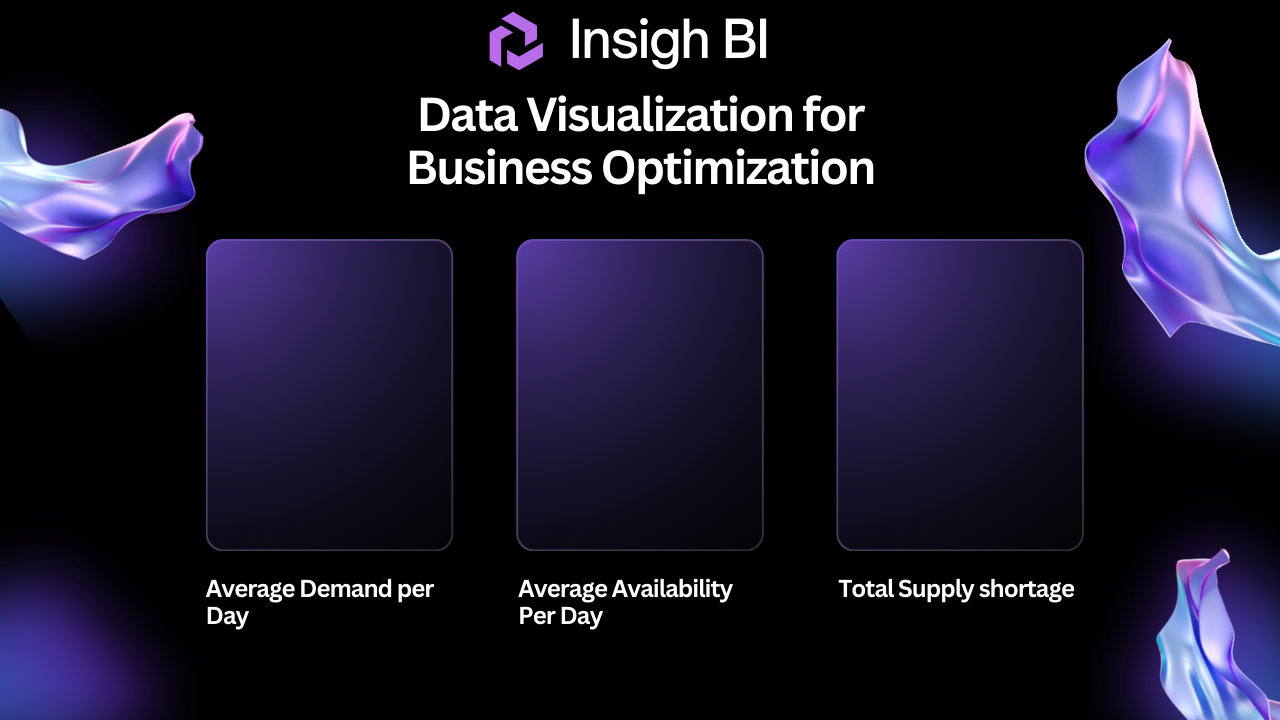

Layout of this report page (visuals, bound fields, positions):
{"tool":"powerbi","page":{"name":"Page 1","canvas":[1280,720],"ordinal":0},"visuals":[{"type":"cardVisual","fields":{"Data":["Measures Table.Average Demand Per day"]},"box":[208.2,241.4,242.9,306.5],"z":0},{"type":"cardVisual","fields":{"Data":["Measures Table.Average Availability Per Day"]},"box":[519,241.4,242.9,306.5],"z":1},{"type":"cardVisual","fields":{"Data":["Measures Table.Total Supply Shortage"]},"box":[841.5,241.4,242.9,306.5],"z":2}]}

Visuals, with their boxes in screenshot pixels (x1, y1, x2, y2), scaled from the page's 1280x720 canvas onto the 1280x720 screenshot:
cardVisual - Measures Table.Average Demand Per day: bbox(208, 241, 451, 548)
cardVisual - Measures Table.Average Availability Per Day: bbox(519, 241, 762, 548)
cardVisual - Measures Table.Total Supply Shortage: bbox(842, 241, 1084, 548)
